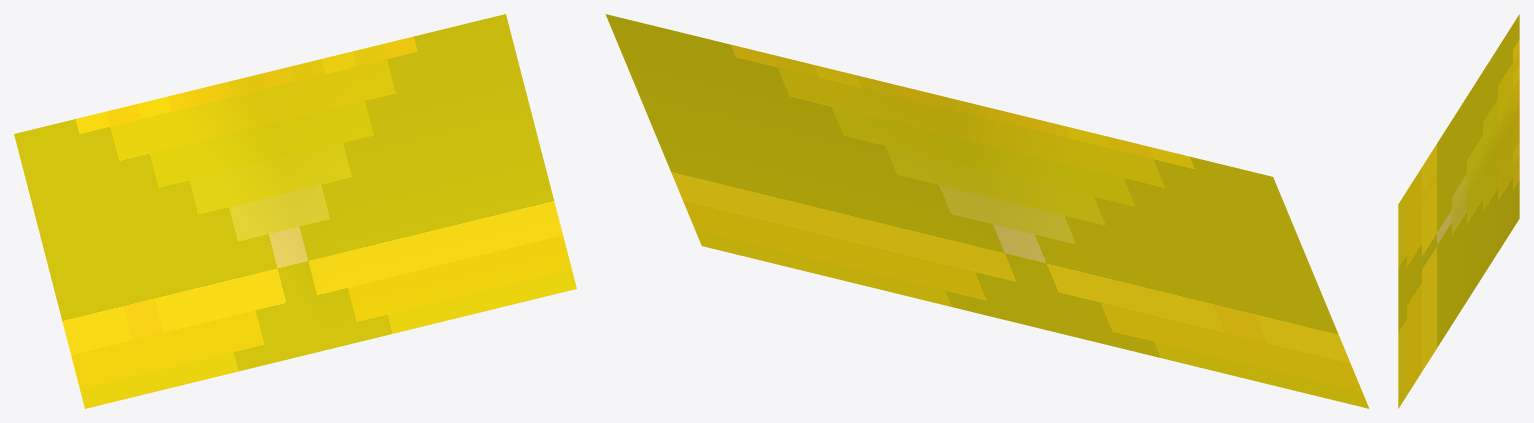
3 views of the same model, side by side, from view 1: azimuth 30°, elevation 25°; view 2: azimuth 150°, elevation 25°; view 3: azimuth 270°, elevation 25° (orthographic). The views are drawn at different scales.
Size of the model in its own units: 1 by 0.4331 by 0.25.
1 material, 1 textured.
